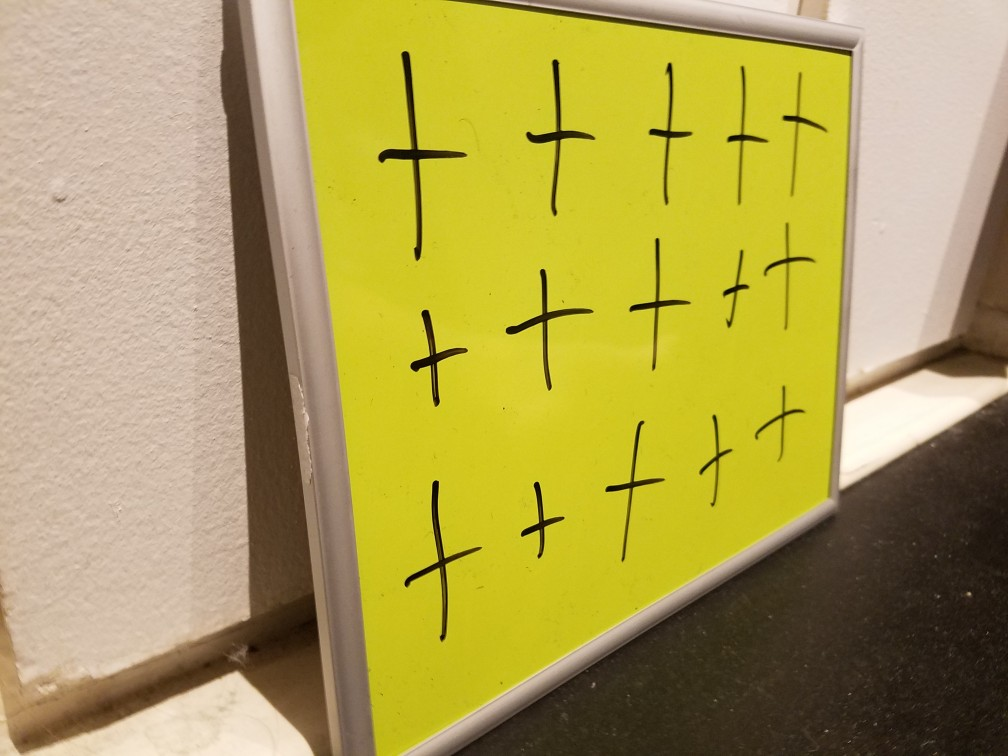+: (338, 28, 477, 269), (503, 33, 603, 217), (387, 469, 481, 646), (491, 254, 601, 393), (624, 39, 706, 216), (592, 403, 669, 571), (616, 232, 694, 376), (393, 298, 473, 411), (715, 50, 769, 215), (750, 371, 811, 500), (776, 59, 828, 204), (760, 218, 820, 336), (692, 398, 746, 521), (520, 470, 573, 571), (713, 242, 756, 344)
